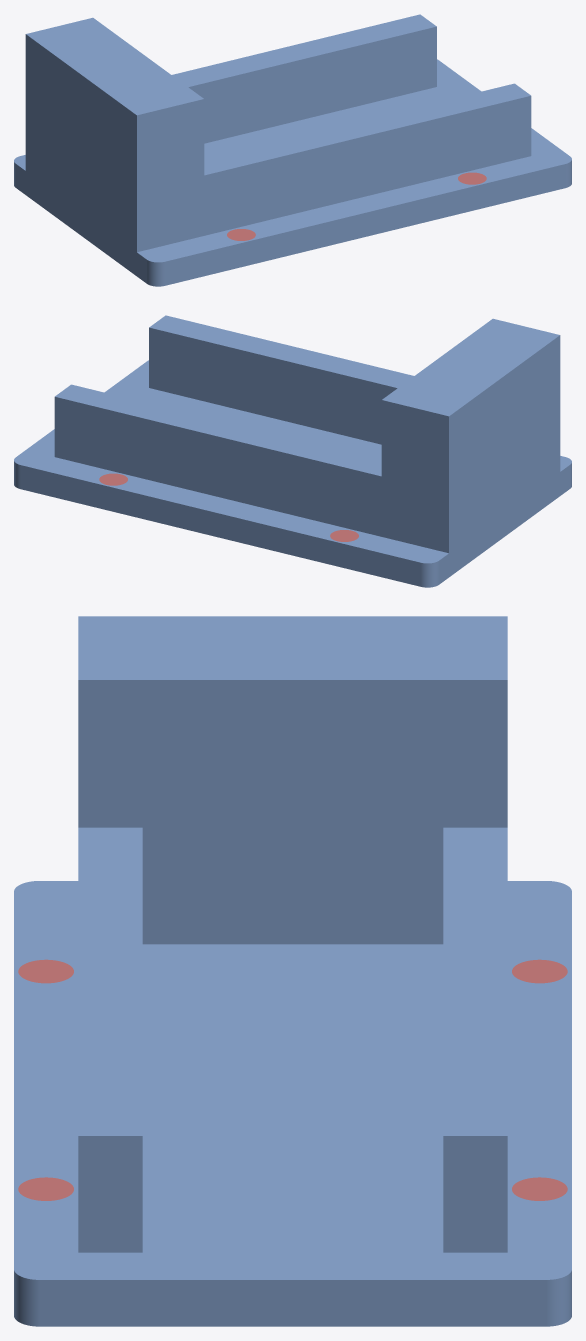
File: step_05.glb
The picture shows the model from 3 angles, top to bottom: view 1: azimuth 30°, elevation 25°; view 2: azimuth 150°, elevation 25°; view 3: azimuth 270°, elevation 25°; orthographic projection. The views are drawn at different scales.
Visible parts, largest first — view 1: part__body, removed__body; view 2: part__body, removed__body; view 3: part__body, removed__body.
Part boxes in pixels (x1,y1,x2,y2): part__body: (14, 14, 571, 286); removed__body: (227, 172, 486, 240); part__body: (14, 315, 571, 587); removed__body: (99, 473, 358, 541); part__body: (14, 616, 571, 1326); removed__body: (18, 959, 567, 1200).
Bounding box in the file's own units: 220 × 80 × 130.
